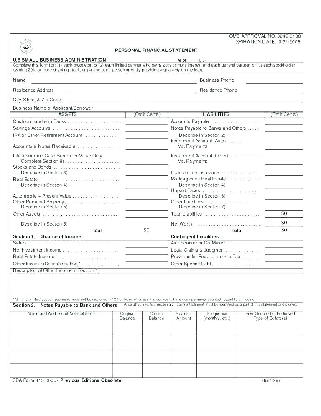textbox: (9, 272, 305, 299), (94, 101, 305, 113), (8, 348, 114, 365), (8, 362, 114, 379), (9, 320, 115, 336), (8, 334, 114, 350), (235, 362, 306, 380), (235, 348, 305, 366), (234, 334, 305, 351), (235, 320, 305, 337), (194, 361, 239, 380), (195, 320, 239, 336), (195, 334, 239, 350), (195, 348, 239, 364), (110, 319, 144, 336), (110, 334, 144, 351), (110, 348, 144, 365), (110, 361, 144, 378), (140, 320, 173, 337), (140, 333, 173, 350), (140, 348, 173, 365), (140, 362, 173, 379), (168, 348, 199, 365), (168, 362, 199, 379), (169, 320, 199, 337), (169, 334, 198, 351)
textline: (60, 95, 304, 105), (30, 75, 198, 85), (57, 85, 198, 94), (243, 75, 306, 84), (243, 85, 306, 94), (123, 117, 169, 126), (123, 124, 169, 133), (123, 131, 169, 140), (123, 142, 169, 151), (123, 158, 169, 167), (123, 168, 169, 177), (123, 181, 169, 190), (123, 192, 169, 201), (123, 203, 169, 212), (123, 240, 169, 249), (123, 247, 169, 256), (263, 124, 305, 133), (263, 169, 305, 178), (263, 254, 305, 263), (263, 117, 304, 126), (128, 226, 169, 235), (263, 240, 304, 249), (263, 261, 304, 270), (123, 210, 169, 218), (123, 254, 169, 262), (123, 261, 169, 269), (263, 181, 305, 189), (263, 203, 305, 211), (262, 210, 304, 218), (262, 220, 304, 228), (263, 227, 305, 235), (263, 248, 305, 256), (263, 143, 304, 151), (263, 158, 304, 166), (263, 193, 304, 201)
